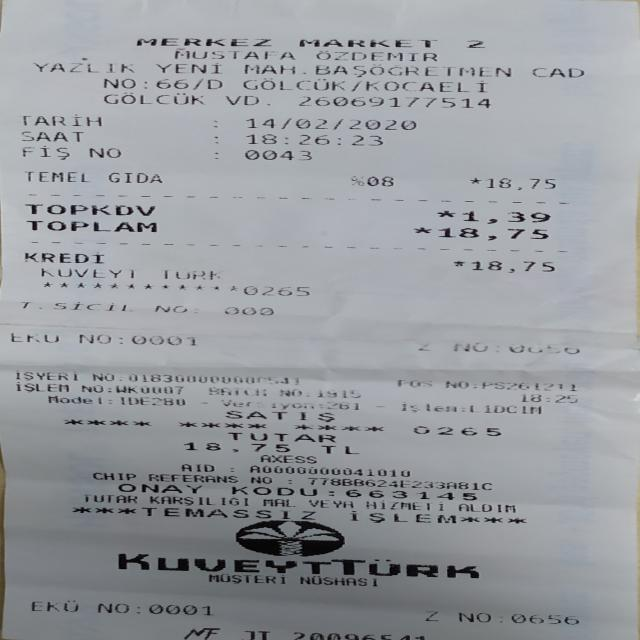text: (118, 552, 478, 580), (299, 92, 488, 111), (314, 62, 508, 80), (145, 504, 313, 522), (245, 116, 415, 131), (250, 462, 407, 478), (123, 372, 300, 386), (306, 477, 490, 490), (26, 217, 154, 234), (24, 201, 152, 217), (246, 132, 382, 147), (299, 34, 434, 49), (136, 33, 270, 48), (366, 77, 484, 94), (315, 48, 434, 64), (437, 225, 545, 242), (174, 47, 294, 62), (33, 58, 132, 76), (242, 76, 346, 92), (104, 90, 201, 107), (350, 508, 453, 524), (227, 429, 334, 444), (293, 628, 422, 640), (344, 489, 479, 500), (225, 408, 331, 422), (40, 264, 131, 280), (184, 440, 287, 454), (148, 493, 246, 507), (414, 422, 498, 437), (56, 297, 130, 314), (232, 483, 314, 498), (24, 250, 102, 265), (461, 210, 548, 223), (478, 381, 578, 392), (120, 480, 198, 494), (156, 60, 220, 77), (471, 259, 554, 272), (23, 113, 100, 127), (299, 573, 376, 587), (488, 175, 552, 191), (24, 169, 89, 184), (150, 602, 213, 617), (132, 332, 194, 347), (244, 148, 310, 162), (220, 399, 312, 409), (368, 499, 450, 510), (46, 392, 106, 407), (208, 572, 283, 584), (148, 474, 237, 484), (156, 268, 224, 281), (507, 343, 578, 355), (22, 129, 82, 143), (533, 64, 582, 81), (242, 284, 311, 296), (402, 400, 458, 414), (244, 61, 290, 78), (468, 404, 546, 414), (15, 379, 66, 394), (131, 394, 185, 408), (226, 301, 270, 318), (108, 170, 160, 184), (12, 370, 78, 381), (261, 452, 314, 465), (209, 386, 271, 397), (528, 612, 576, 626), (21, 146, 68, 160), (85, 491, 135, 504), (33, 598, 76, 613), (10, 330, 55, 344), (115, 385, 185, 394), (457, 610, 501, 624), (455, 502, 516, 512), (521, 392, 575, 403), (92, 469, 134, 482), (102, 74, 134, 90), (226, 91, 256, 108), (320, 442, 356, 456), (309, 497, 351, 509), (156, 75, 186, 91), (94, 602, 130, 615), (318, 400, 360, 411), (88, 146, 120, 160), (157, 300, 185, 316), (396, 376, 428, 390), (79, 332, 107, 346), (319, 389, 362, 398), (182, 461, 213, 473), (263, 496, 293, 508), (368, 173, 390, 189), (445, 377, 468, 391), (452, 342, 484, 352), (22, 296, 40, 312), (93, 371, 115, 382), (82, 381, 100, 394), (206, 76, 220, 92), (414, 224, 428, 240), (250, 476, 272, 486), (437, 209, 453, 222), (278, 388, 300, 397), (466, 35, 480, 49), (512, 612, 524, 624), (425, 609, 436, 622), (452, 258, 462, 272), (469, 175, 478, 190), (1, 217, 10, 232), (356, 76, 364, 92), (419, 340, 429, 352), (107, 394, 116, 406), (193, 75, 199, 91), (327, 486, 335, 498), (298, 62, 303, 78), (352, 173, 357, 188), (116, 332, 121, 346), (213, 132, 217, 146), (474, 378, 478, 390), (107, 382, 111, 394), (201, 396, 205, 408), (213, 116, 216, 130), (376, 400, 379, 412), (194, 301, 196, 316), (231, 462, 233, 474), (288, 474, 290, 486), (144, 75, 145, 90), (215, 147, 216, 161), (120, 371, 120, 384)
